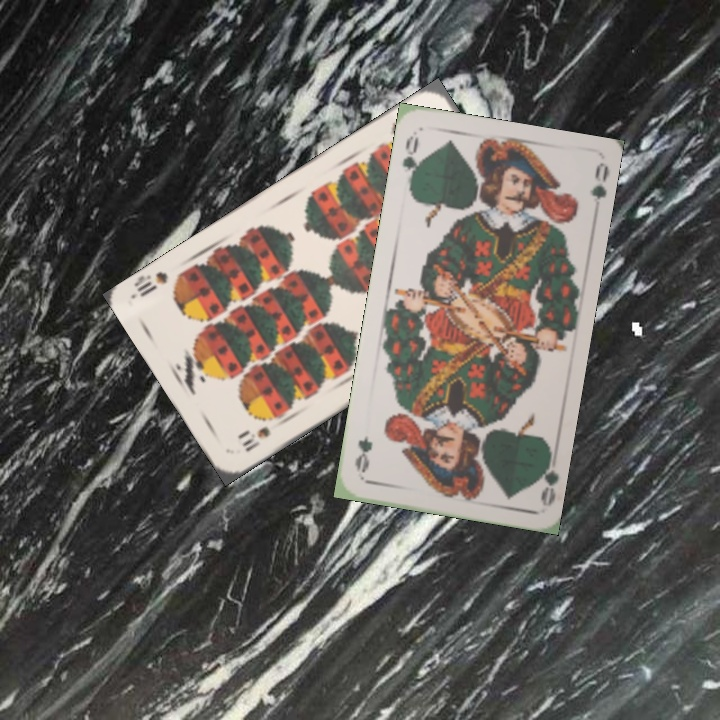GO: (531, 447, 560, 507), (398, 132, 425, 189)
S10: (235, 422, 273, 455)
